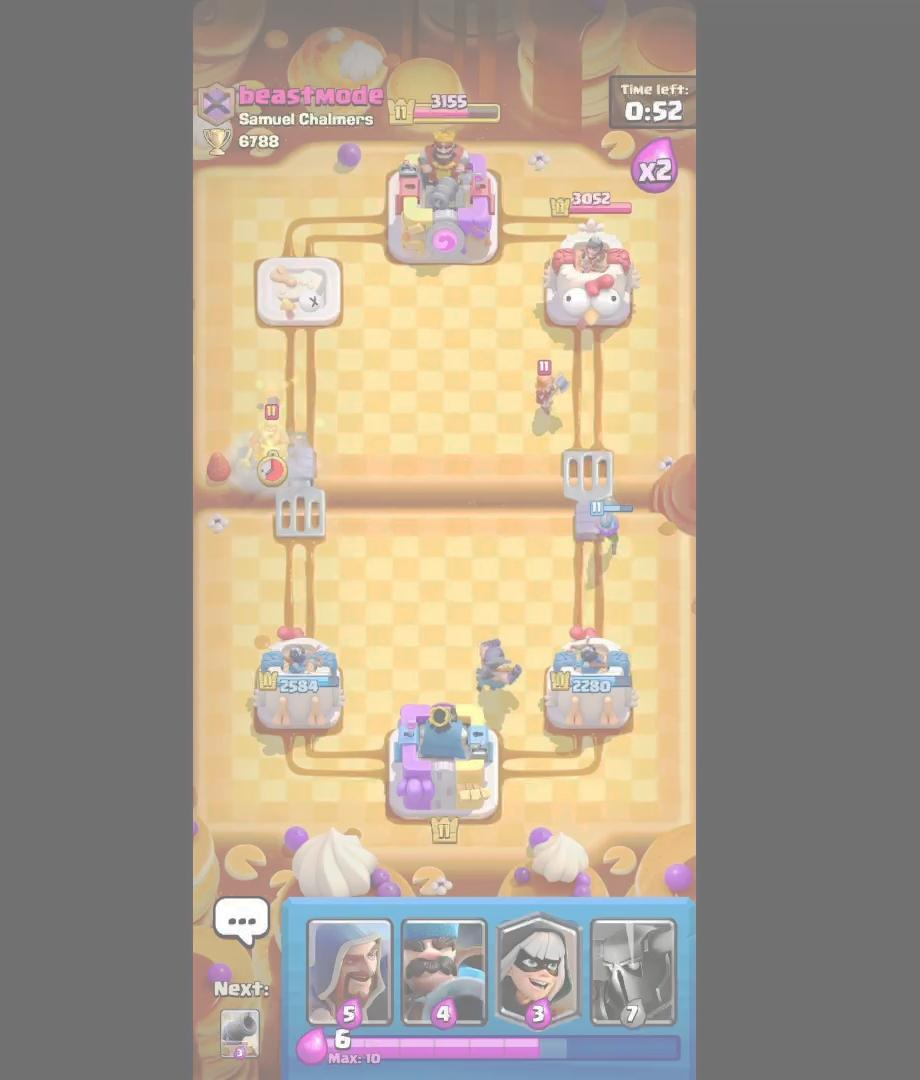Hog Rider: (239, 399, 302, 486)
Valkyrie: (527, 360, 575, 425)
